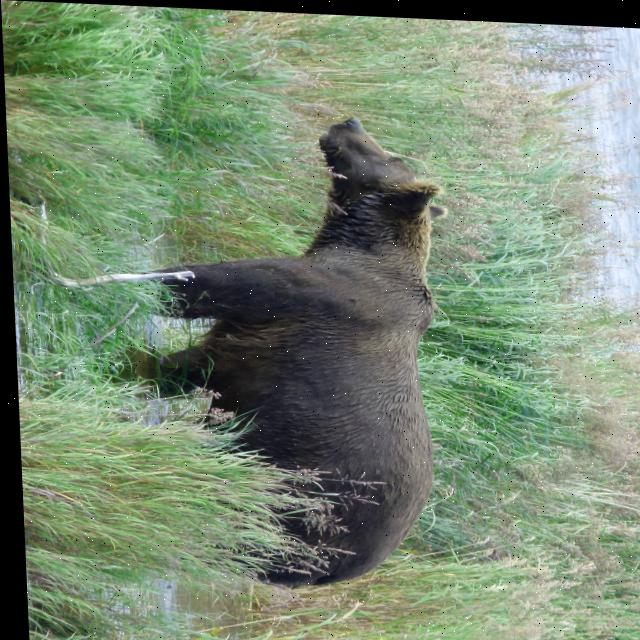bear face: (155, 107, 455, 590)
